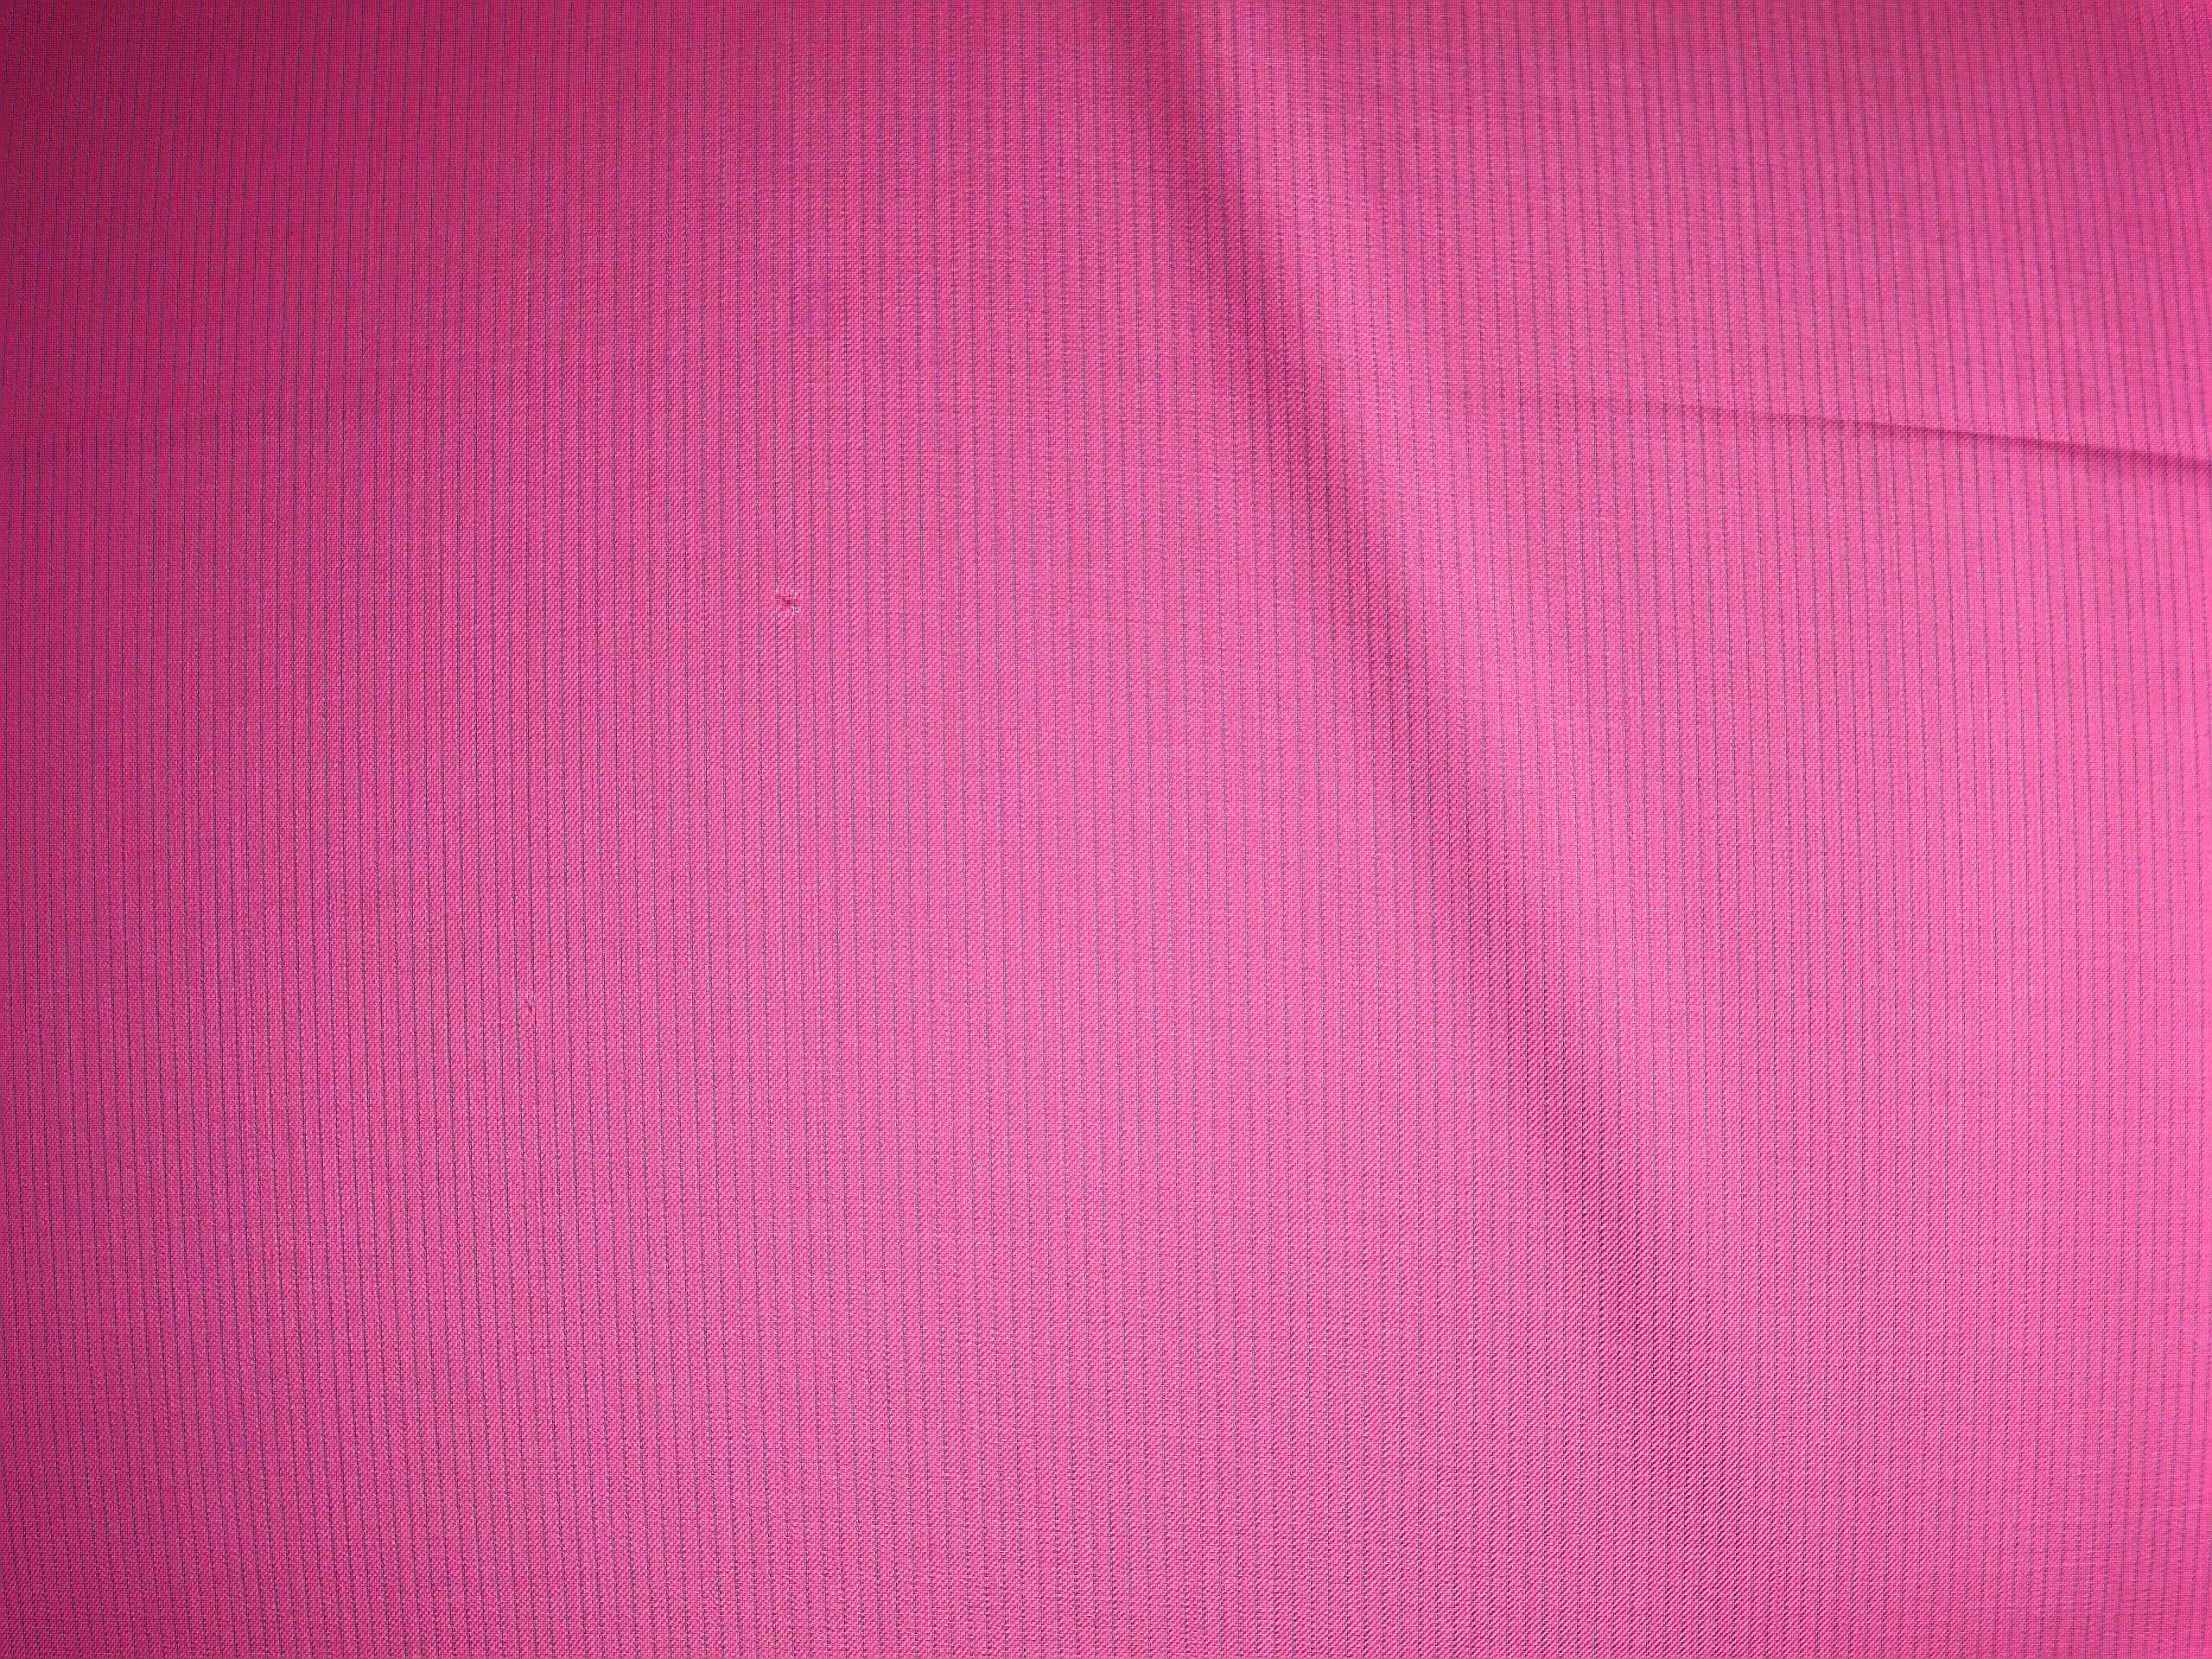rubbing-hole: (761, 572, 822, 638)
